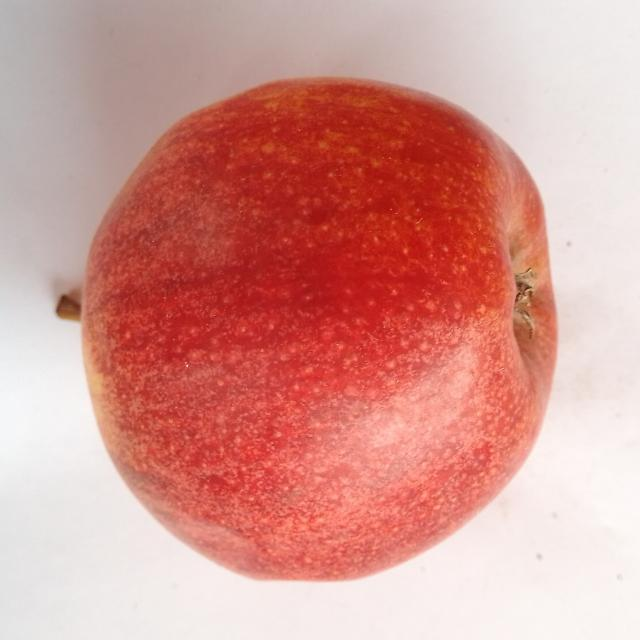Fresh Apple: (77, 70, 560, 597)
